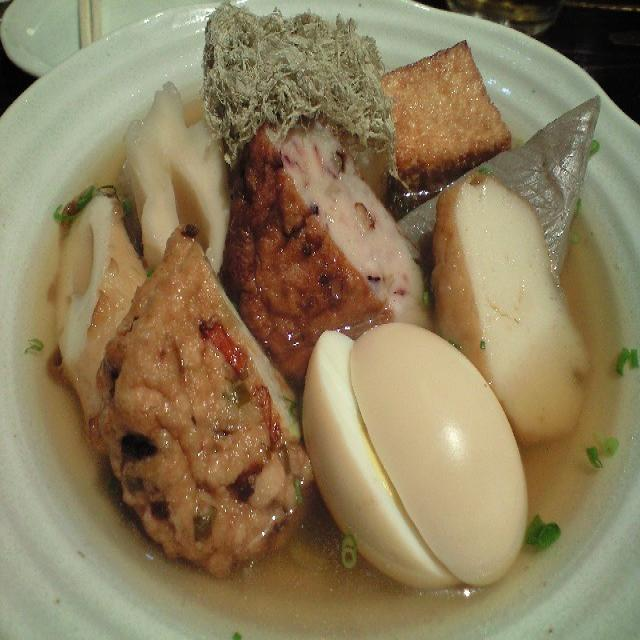汤锅炖物: (44, 0, 602, 597)
